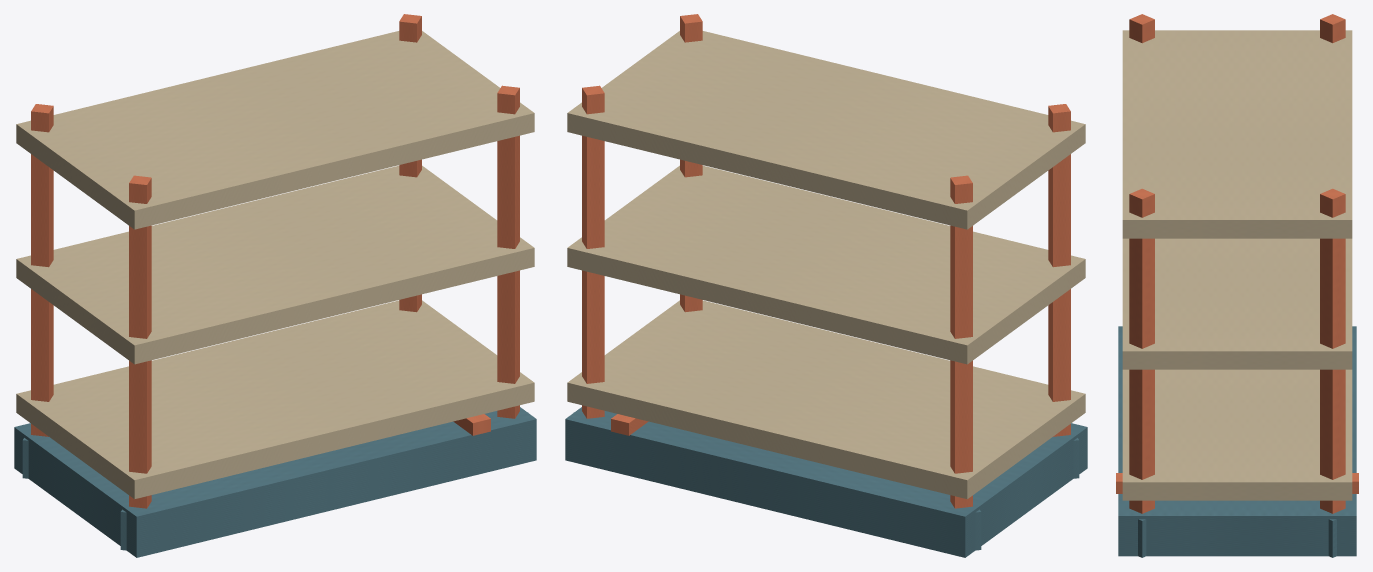
File: atlas100-s041-a06.lod2.glb
3 views of the same model, side by side, from view 1: azimuth 30°, elevation 25°; view 2: azimuth 150°, elevation 25°; view 3: azimuth 270°, elevation 25° (orthographic). The views are drawn at different scales.
Visible parts, largest first — view 1: atlas100-s041-a06:part-013, atlas100-s041-a06:part-011, atlas100-s041-a06:part-012, atlas100-s041-a06:part-000, atlas100-s041-a06:part-005, atlas100-s041-a06:part-009, atlas100-s041-a06:part-003, atlas100-s041-a06:part-007; view 2: atlas100-s041-a06:part-013, atlas100-s041-a06:part-011, atlas100-s041-a06:part-012, atlas100-s041-a06:part-000, atlas100-s041-a06:part-003, atlas100-s041-a06:part-007, atlas100-s041-a06:part-005, atlas100-s041-a06:part-009; view 3: atlas100-s041-a06:part-013, atlas100-s041-a06:part-012, atlas100-s041-a06:part-011, atlas100-s041-a06:part-000, atlas100-s041-a06:part-007, atlas100-s041-a06:part-009, atlas100-s041-a06:part-003, atlas100-s041-a06:part-005, atlas100-s041-a06:part-008, atlas100-s041-a06:part-010.
Part boxes in pixels (x1,y1,x2,y2): atlas100-s041-a06:part-013: (16, 31, 534, 229); atlas100-s041-a06:part-011: (16, 300, 534, 499); atlas100-s041-a06:part-012: (16, 165, 534, 364); atlas100-s041-a06:part-000: (14, 407, 536, 557); atlas100-s041-a06:part-005: (129, 175, 151, 508); atlas100-s041-a06:part-009: (497, 85, 519, 418); atlas100-s041-a06:part-003: (31, 104, 53, 436); atlas100-s041-a06:part-007: (399, 14, 421, 312); atlas100-s041-a06:part-013: (567, 31, 1085, 229); atlas100-s041-a06:part-011: (567, 300, 1085, 499); atlas100-s041-a06:part-012: (567, 165, 1085, 364); atlas100-s041-a06:part-000: (565, 407, 1087, 557); atlas100-s041-a06:part-003: (950, 175, 972, 508); atlas100-s041-a06:part-007: (582, 85, 604, 418); atlas100-s041-a06:part-005: (1048, 104, 1070, 436); atlas100-s041-a06:part-009: (680, 14, 702, 312); atlas100-s041-a06:part-013: (1122, 30, 1352, 238); atlas100-s041-a06:part-012: (1122, 238, 1352, 369); atlas100-s041-a06:part-011: (1122, 369, 1352, 500); atlas100-s041-a06:part-000: (1118, 326, 1356, 556); atlas100-s041-a06:part-007: (1320, 188, 1345, 513); atlas100-s041-a06:part-009: (1129, 188, 1154, 513); atlas100-s041-a06:part-003: (1320, 14, 1345, 43); atlas100-s041-a06:part-005: (1129, 14, 1154, 43); atlas100-s041-a06:part-008: (1328, 519, 1336, 557); atlas100-s041-a06:part-010: (1138, 519, 1146, 557).
Bounding box in the file's own units: 2.69 × 2.3 × 1.43.
3 materials, 3 textured.
